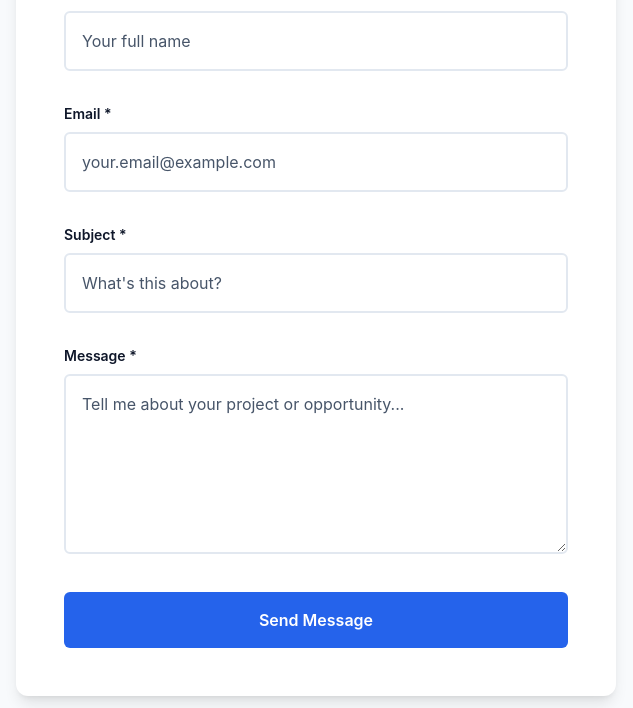
Test: Contact Component - Property 4: Form Validation and Submission › should validate form fields and show appropriate errors
(page scrolled)
Check: the field labelled "Name *" is shown, box x1=64 y1=11 x2=568 y2=71
Check: the field labelled "Email *" is shown, box x1=64 y1=132 x2=568 y2=192
# Submit empty form - should show validation errors
Click the button "Send Message": coordinates (316, 620) x1=64 y1=592 x2=568 y2=648
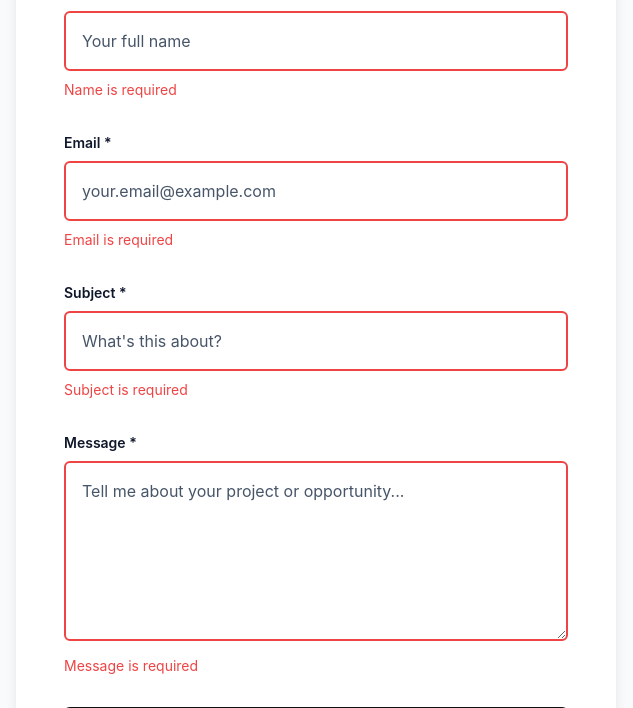
Check: the message "Name is required" is shown, box x1=64 y1=81 x2=177 y2=98
